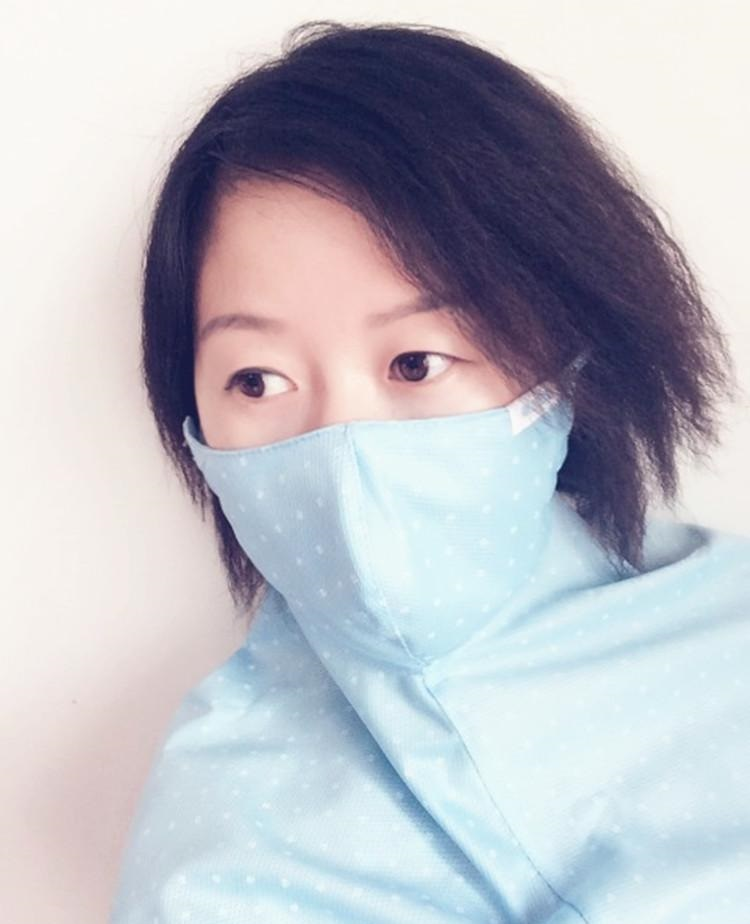face_mask: (190, 172, 548, 665)
